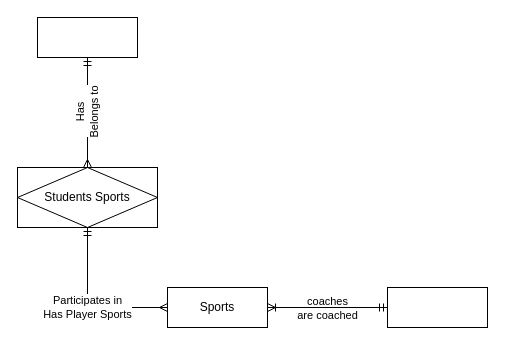
Image size: 505x345. Some labels were removed from this diagram. Here are the shapes that lost their labels. From the top down, the centre of each, then its label:
At point (87, 37): "Students".
At point (437, 307): "Head Coach".
